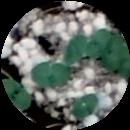Basil: (30, 61, 72, 87), (0, 79, 34, 110), (92, 27, 114, 64), (106, 42, 130, 74), (64, 31, 89, 60), (77, 93, 96, 116)
